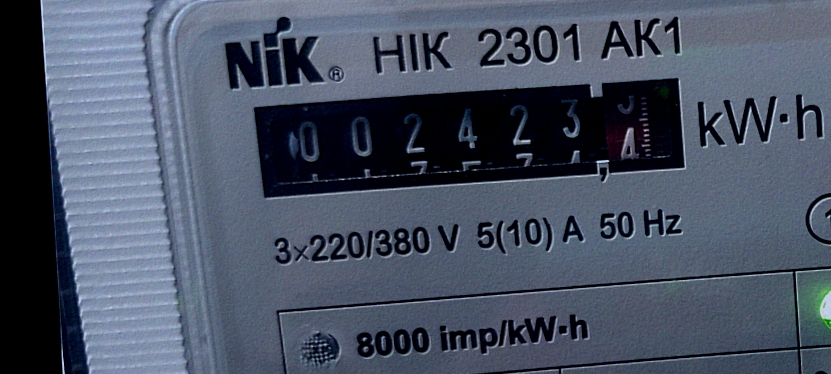0: (295, 116, 324, 166), (348, 114, 376, 160)
2: (400, 109, 428, 157), (507, 102, 533, 149)
3: (558, 95, 584, 141), (615, 92, 638, 116)
4: (454, 105, 479, 152), (615, 123, 642, 162)
screen: (243, 66, 699, 211)
